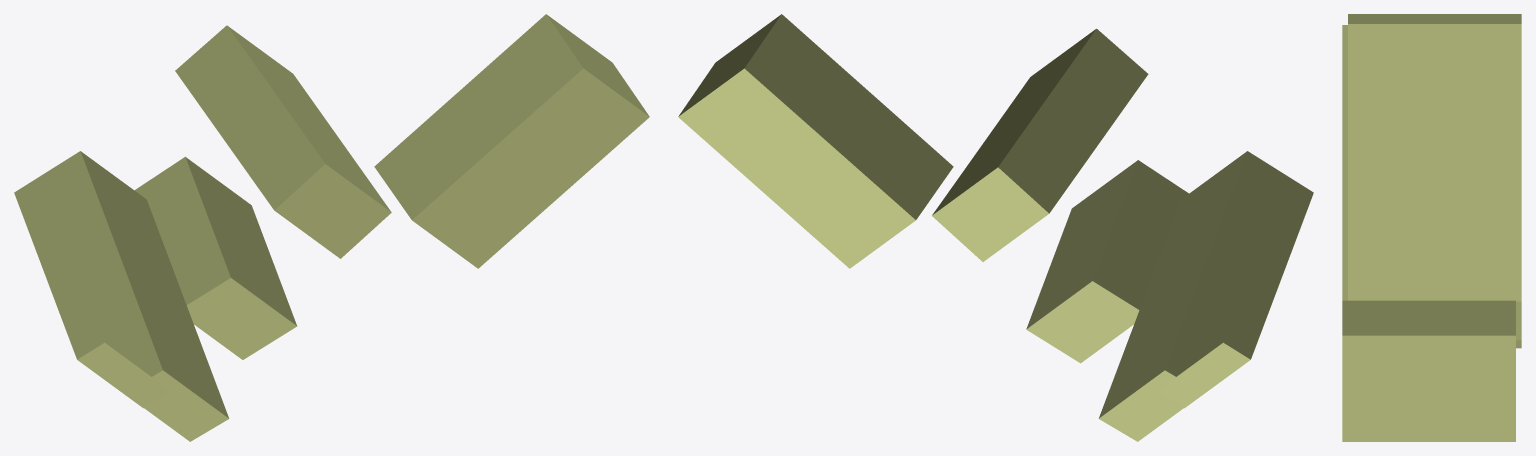
3 renders of one model, left to right at view 1: azimuth 30°, elevation 25°; view 2: azimuth 150°, elevation 25°; view 3: azimuth 270°, elevation 25°, orthographic. The views are drawn at different scales.
Visible parts, largest first — view 1: 0_1_0_0_3_0_3_2_1; view 2: 0_1_0_0_3_0_3_2_1; view 3: 0_1_0_0_3_0_3_2_1.
Part boxes in pixels (bbox=[...]): 0_1_0_0_3_0_3_2_1: bbox=[14, 14, 649, 441]; 0_1_0_0_3_0_3_2_1: bbox=[678, 14, 1313, 441]; 0_1_0_0_3_0_3_2_1: bbox=[1342, 14, 1521, 441].
Bounding box in the file's own units: 44.59 × 25.51 × 9.3.
